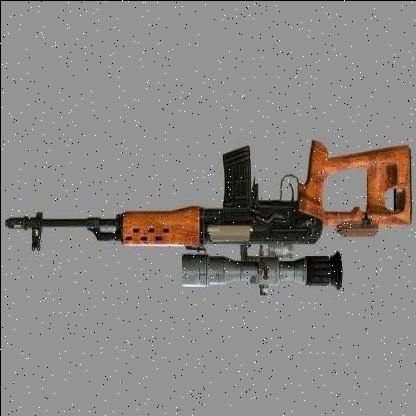rifle: (1, 113, 416, 293)
